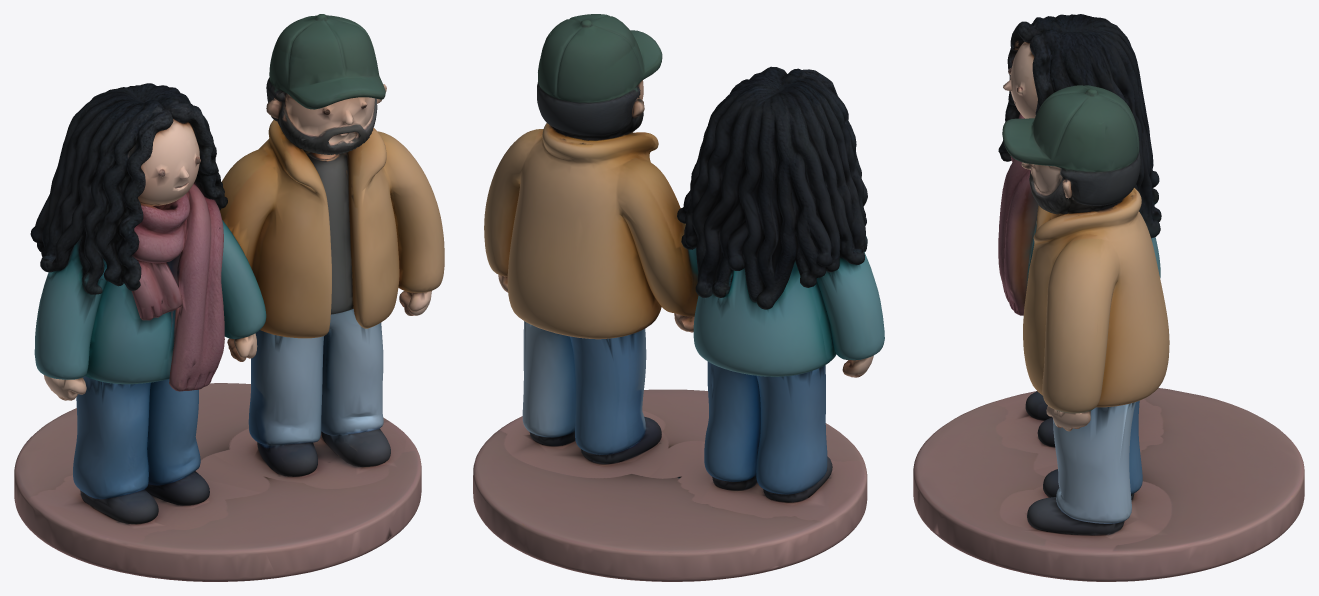
Rendered from couple.glb.
3 views of the same model, side by side, from view 1: azimuth 30°, elevation 25°; view 2: azimuth 150°, elevation 25°; view 3: azimuth 270°, elevation 25° (orthographic). The views are drawn at different scales.
Parts seen in each view (by area): view 1: node_0; view 2: node_0; view 3: node_0.
Part boxes in pixels (bbox=[...]): node_0: bbox=[14, 14, 444, 581]; node_0: bbox=[473, 14, 884, 581]; node_0: bbox=[913, 14, 1304, 581].
Bounding box in the file's own units: 0.8456 × 0.9413 × 0.7328.
1 material, 1 textured.
